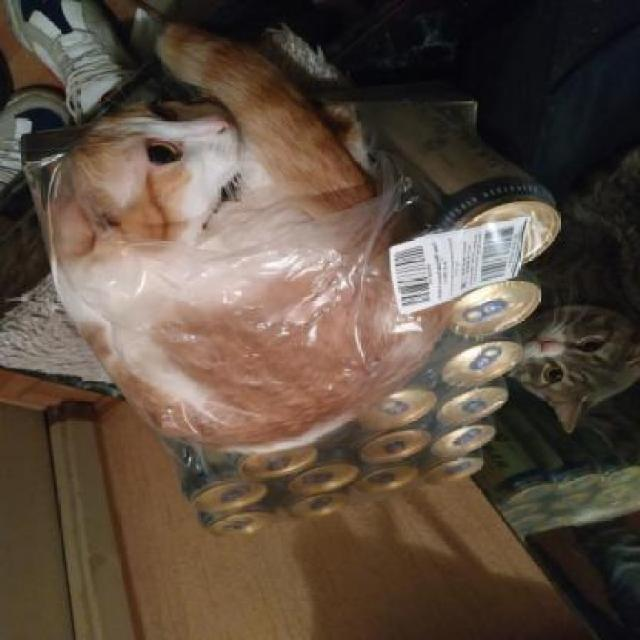cat: (51, 102, 411, 436), (495, 287, 640, 425)
